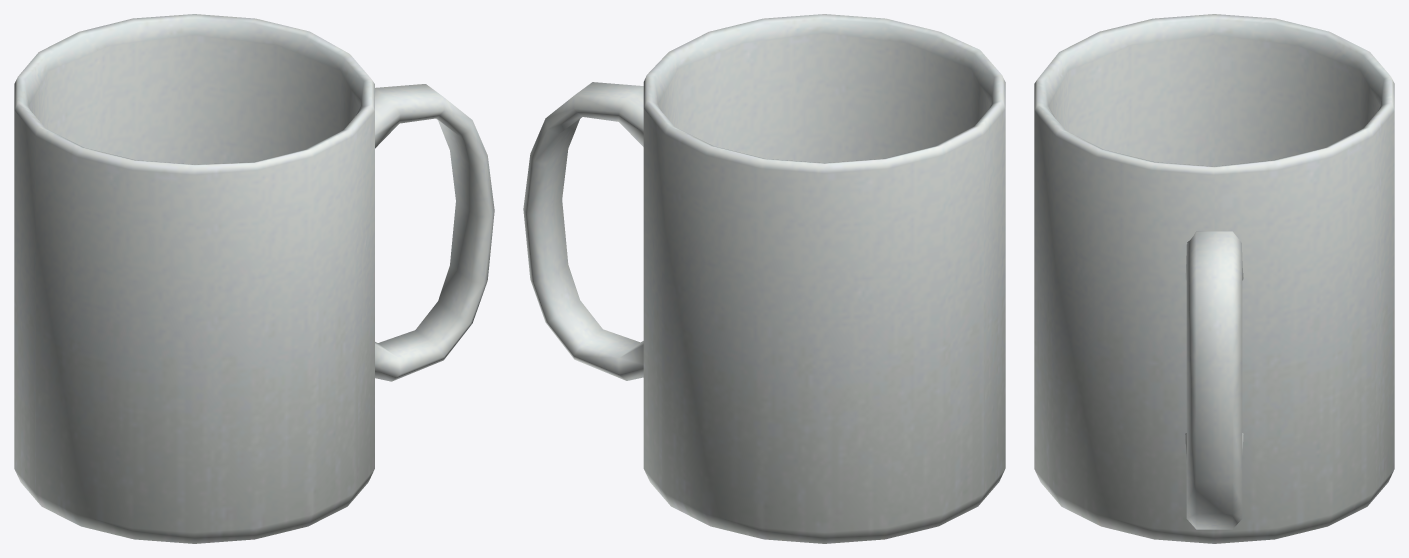
The model's file is mug_coffee.dae.
3 renders of one model, left to right at view 1: azimuth 30°, elevation 25°; view 2: azimuth 150°, elevation 25°; view 3: azimuth 270°, elevation 25°, orthographic.
Parts seen in each view (by area): view 1: mug_coffee; view 2: mug_coffee; view 3: mug_coffee.
Part boxes in pixels (<box>): mug_coffee: <box>14,14,494,543</box>; mug_coffee: <box>523,14,1005,543</box>; mug_coffee: <box>1034,14,1394,543</box>.
Size of the model in its own units: 14.52 by 11.89 by 10.08.
